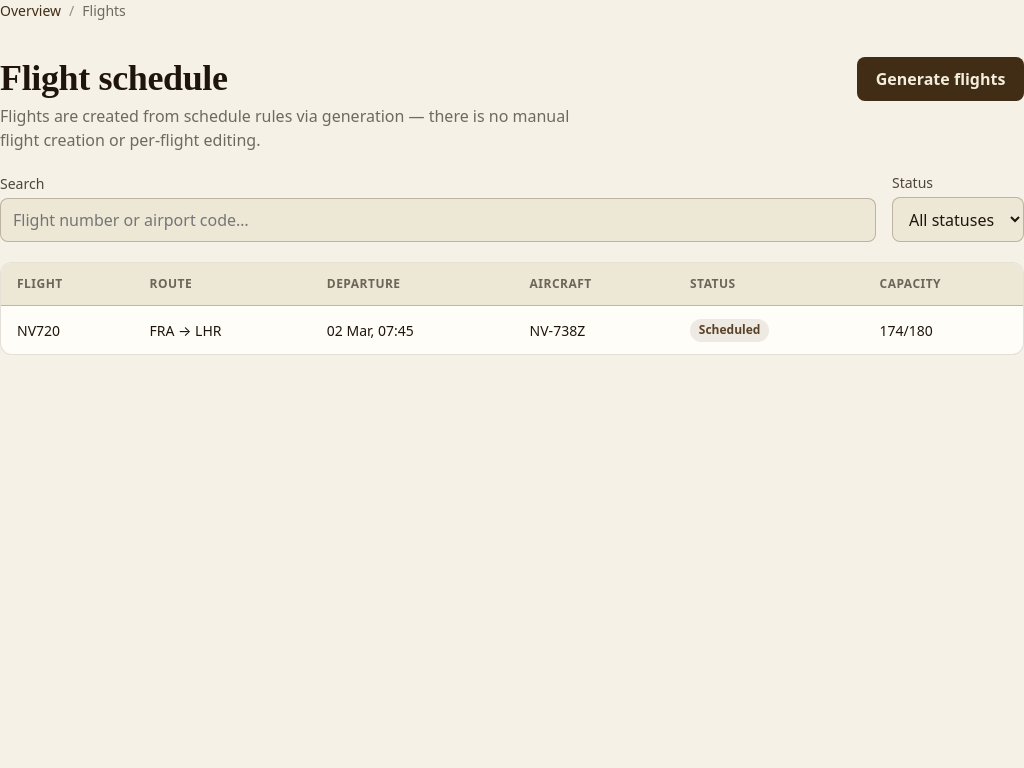
FlightsPage › generates flights, renders the real summary and refreshes the list
Click the button "Generate flights": coordinates (941, 79) [857,57,1023,101]
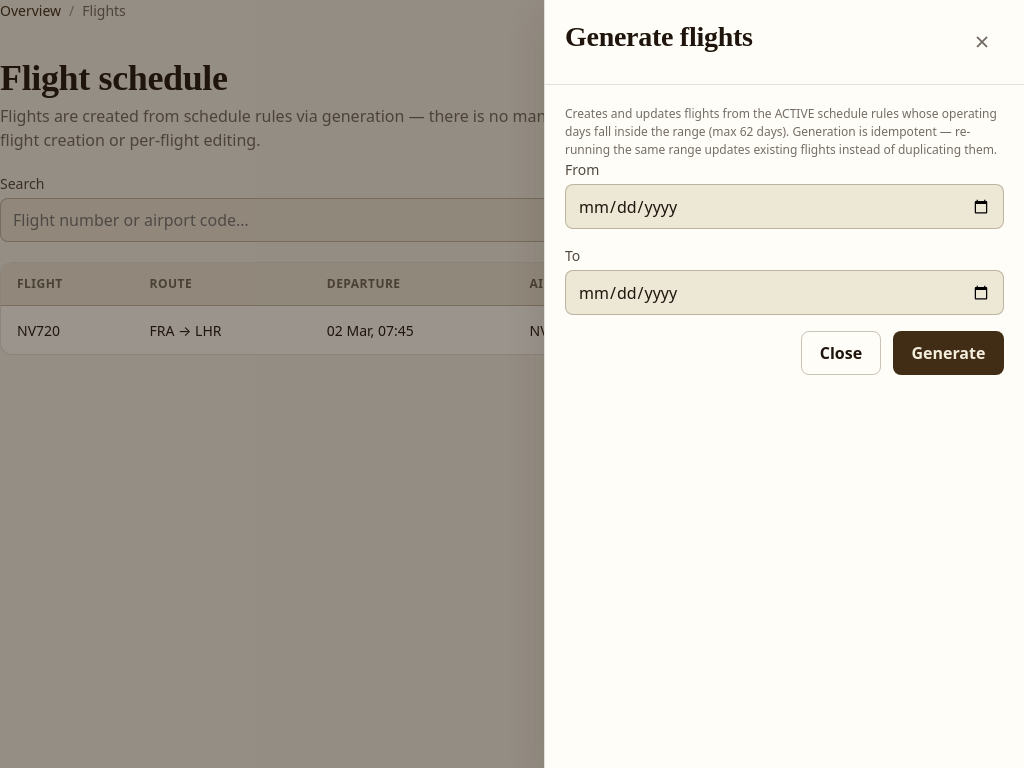
In the date field with id "gen-from": coordinates (784, 207) [565,184,1004,229], type "2026-03-01"
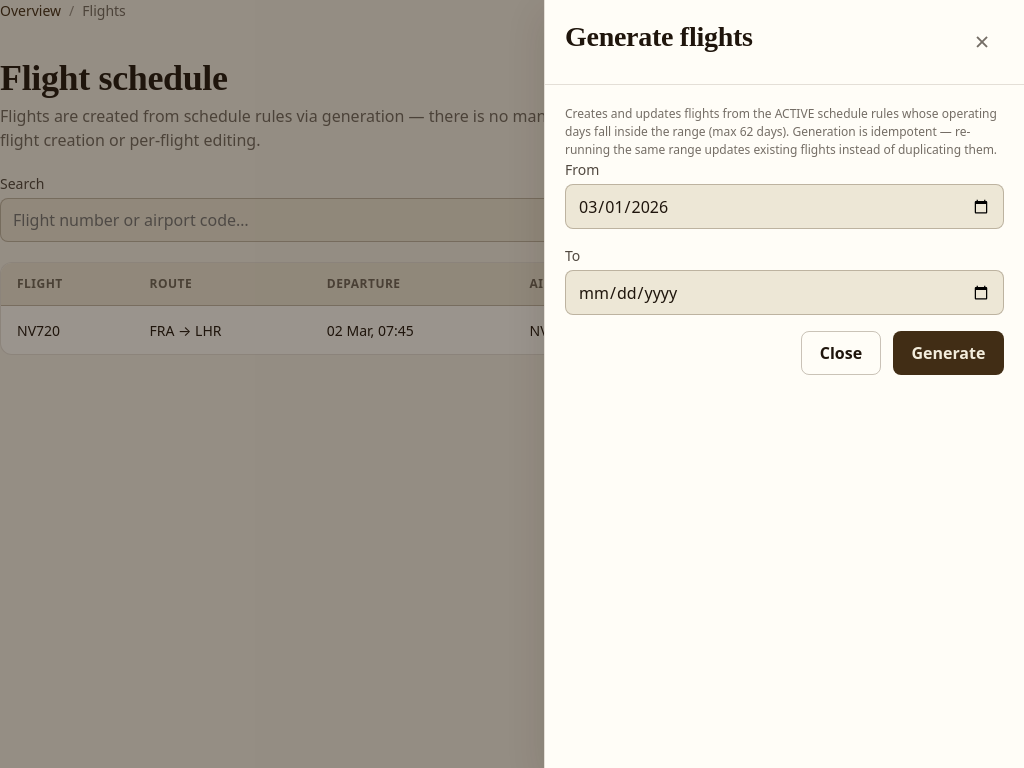
In the date field with id "gen-to": coordinates (784, 293) [565,270,1004,315], type "2026-04-30"
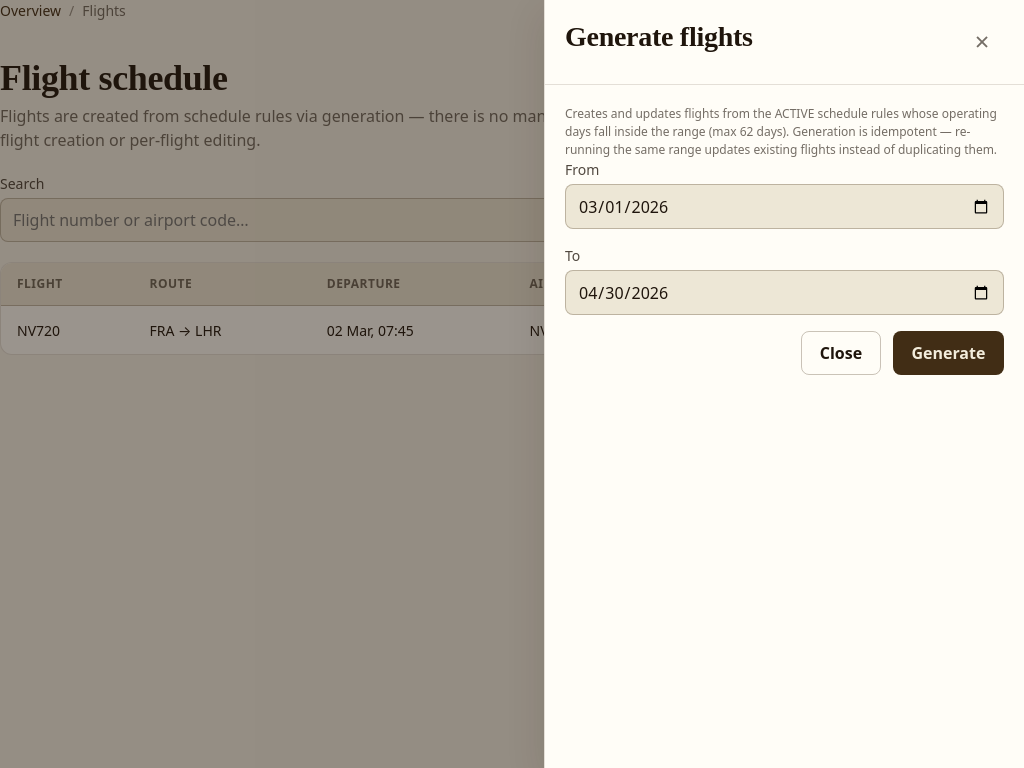
Submit the form, box [545,85,1023,395]
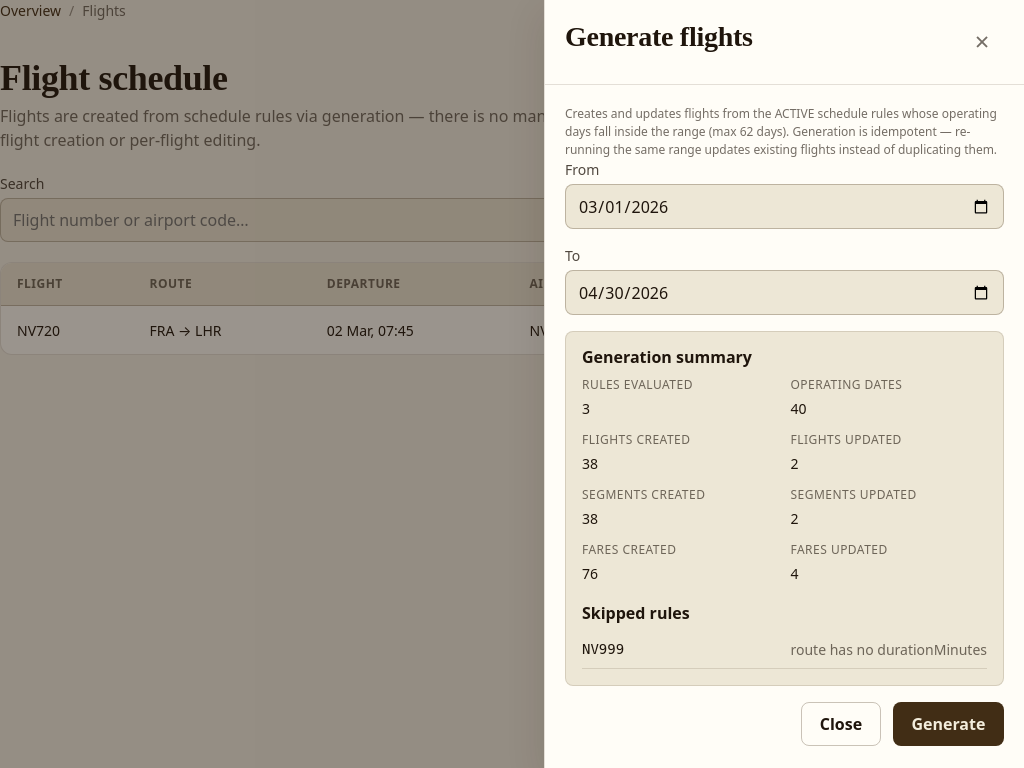
Now the element with class "gen-summary" shows "Rules evaluated", box [582,376,693,393]
Now the element with class "gen-summary" shows "3", box [582,399,590,418]
Now the element with class "gen-summary" shows "38", box [582,454,598,473]
